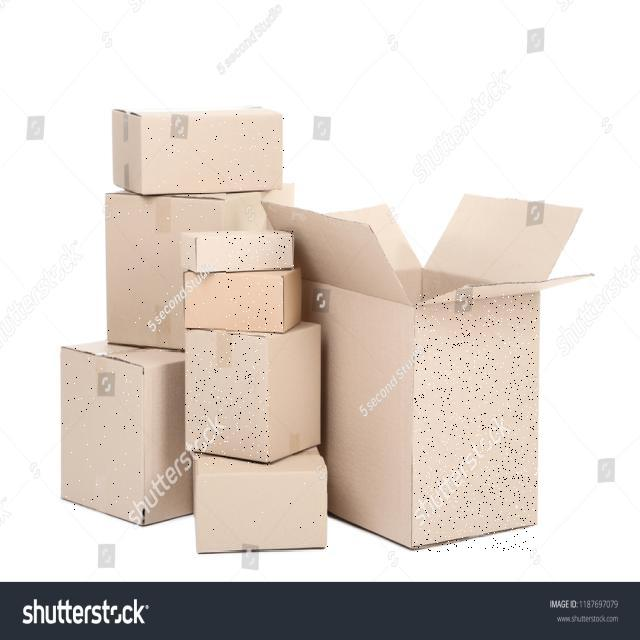BoxFace: (414, 294, 538, 553), (105, 194, 226, 352), (59, 347, 145, 527), (142, 112, 284, 196), (185, 330, 270, 466), (199, 466, 328, 552), (190, 278, 283, 335), (196, 232, 294, 270)
